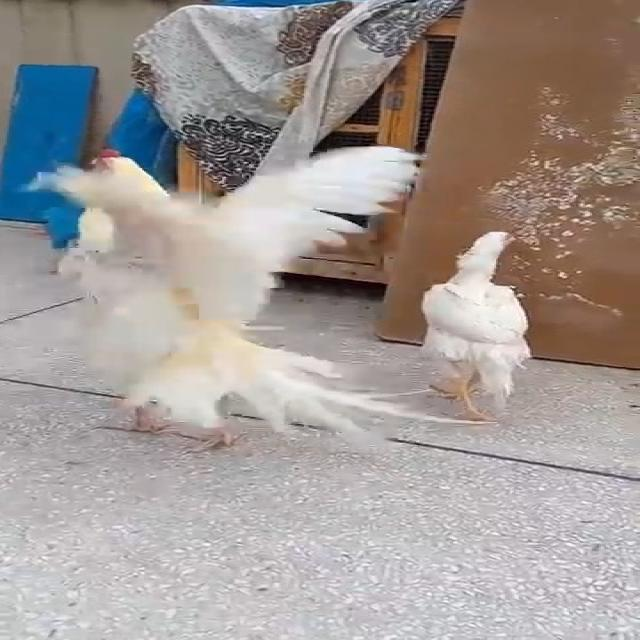walking: (420, 208, 572, 440)
wing flap: (36, 116, 427, 470)
